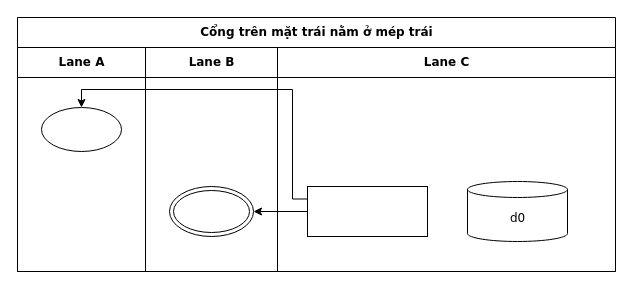
Image size: 633x289. Some labels were removed from this diagram. Here are the shapes that lost their labels. From the top down, the centre of each, then its label:
At point (81, 129): "A-1 x".
At point (211, 211): "B-3 x".
At point (367, 211): "C-2 x".
